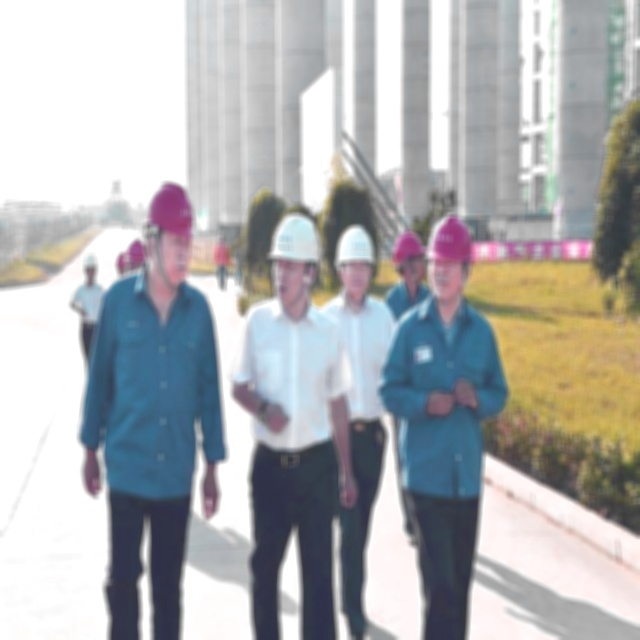Con_Casco: (268, 213, 321, 310), (428, 214, 472, 302), (337, 226, 375, 300)
Sin_Chaleco: (398, 304, 490, 488), (244, 300, 335, 446)
